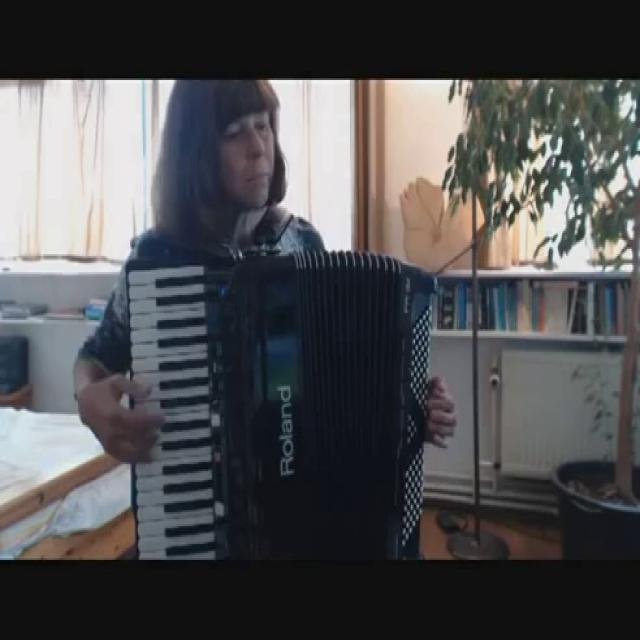Accordion: (123, 263, 426, 567)
